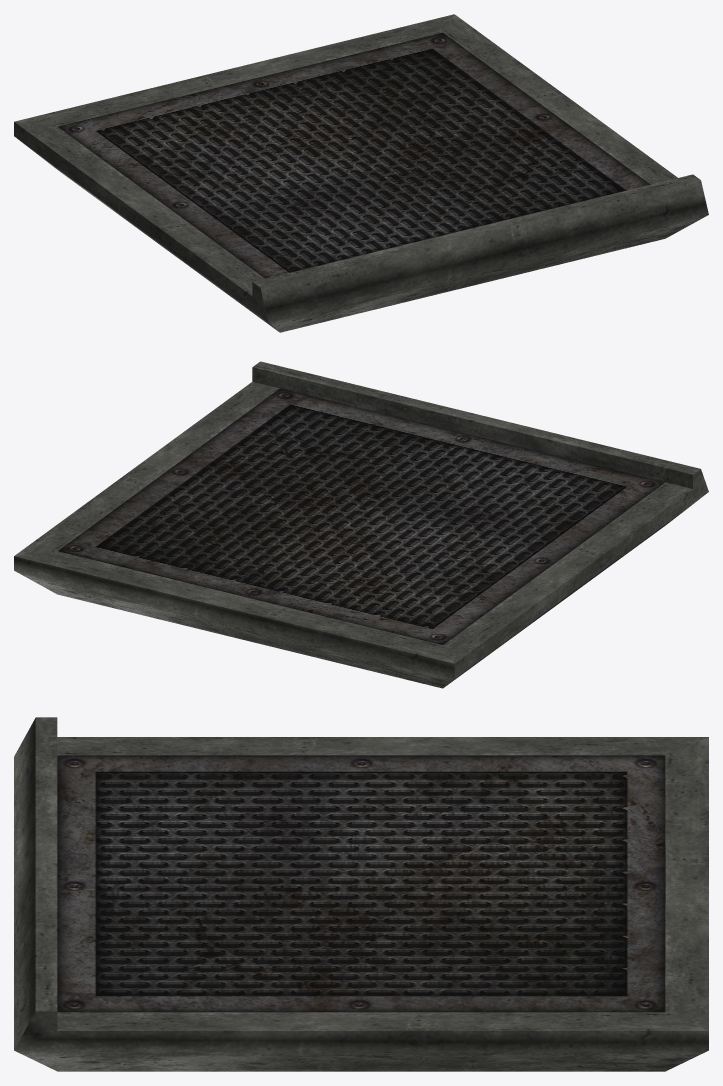
The model's file is catwalk_A_T.fbx.
The picture shows the model from 3 angles, top to bottom: view 1: azimuth 30°, elevation 25°; view 2: azimuth 150°, elevation 25°; view 3: azimuth 270°, elevation 25°; orthographic projection. The views are drawn at different scales.
Parts seen in each view (by area): view 1: polySurface487, pCube250; view 2: polySurface487, pCube250; view 3: polySurface487, pCube250.
Part boxes in pixels (x1,y1,x2,y2): polySurface487: (58, 32, 650, 278); pCube250: (14, 14, 708, 332); polySurface487: (58, 388, 664, 645); pCube250: (14, 361, 708, 688); polySurface487: (57, 755, 665, 1012); pCube250: (14, 717, 708, 1071).
Size of the model in its own units: 800 by 100 by 800.
